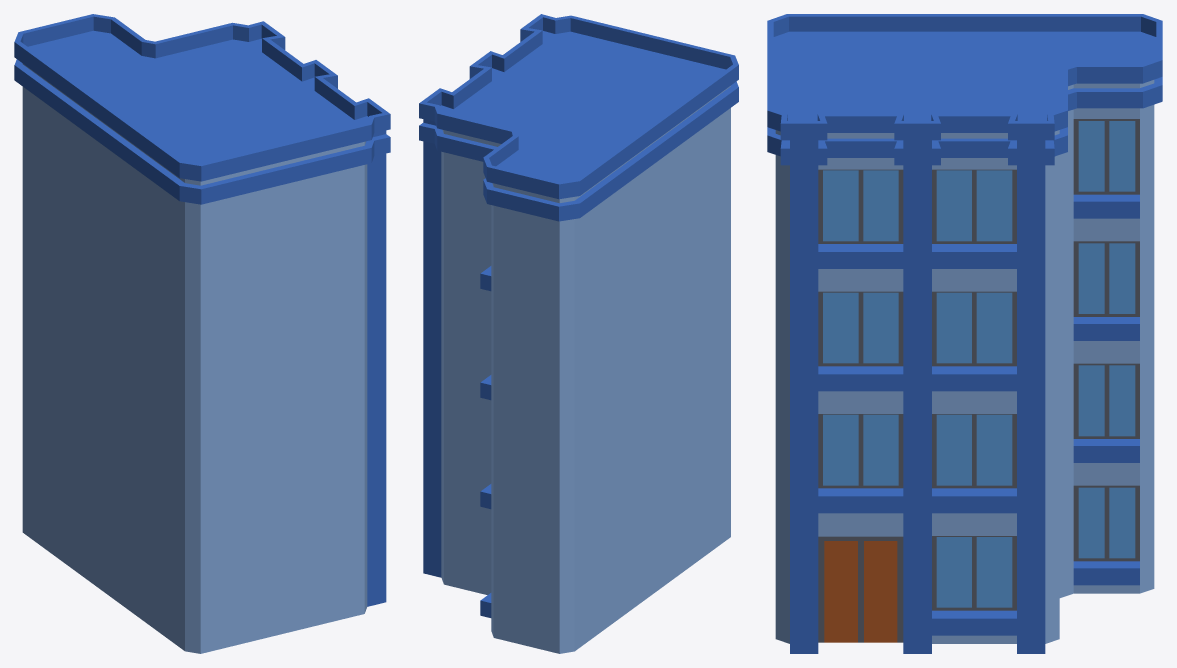
The picture shows the model from 3 angles, left to right: view 1: azimuth 30°, elevation 25°; view 2: azimuth 150°, elevation 25°; view 3: azimuth 270°, elevation 25°; orthographic projection. The views are drawn at different scales.
Parts seen in each view (by area): view 1: Predio 9.001; view 2: Predio 9.001; view 3: Predio 9.001.
Boxes of the visible parts, <box> form: Predio 9.001: <box>14,14,390,653</box>; Predio 9.001: <box>419,14,738,653</box>; Predio 9.001: <box>767,14,1162,653</box>.
Size of the model in its own units: 4243 by 9570 by 6461.
